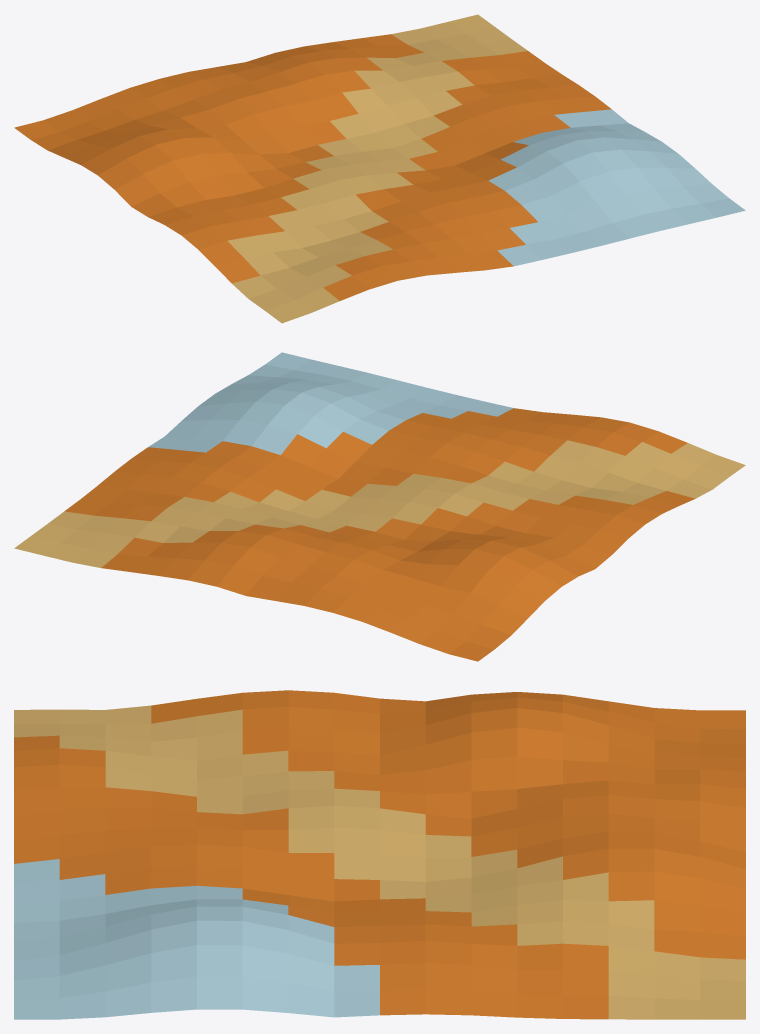
Rendered from ground.fbx.
3 views of the same model, one above another, from view 1: azimuth 30°, elevation 25°; view 2: azimuth 150°, elevation 25°; view 3: azimuth 270°, elevation 25° (orthographic). The views are drawn at different scales.
Parts seen in each view (by area): view 1: ground; view 2: ground; view 3: ground.
Part boxes in pixels (bbox=[...]): ground: bbox=[14, 14, 745, 323]; ground: bbox=[14, 352, 745, 661]; ground: bbox=[14, 690, 745, 1019].
Size of the model in its own units: 1488 by 92.17 by 1488.
